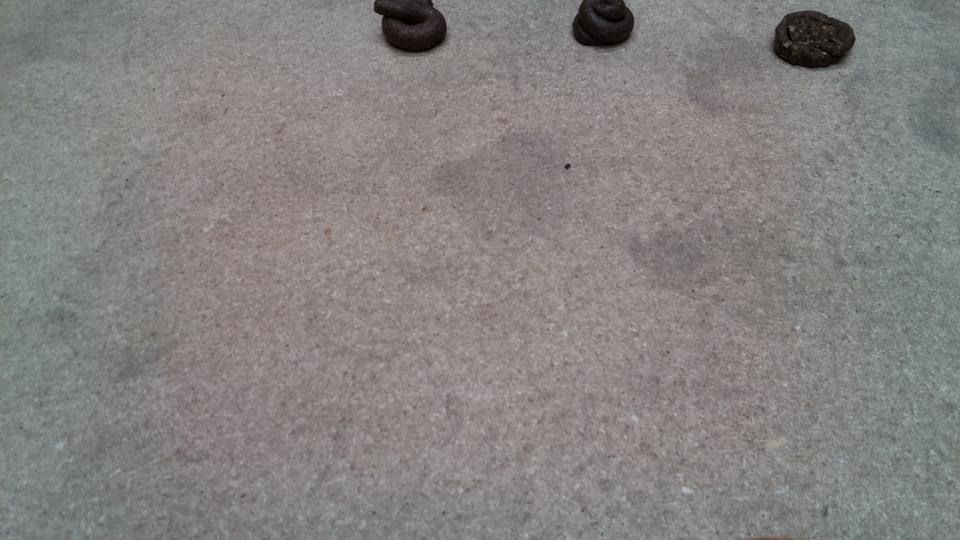poop: (791, 168, 885, 261), (311, 175, 394, 251), (248, 22, 315, 75)
